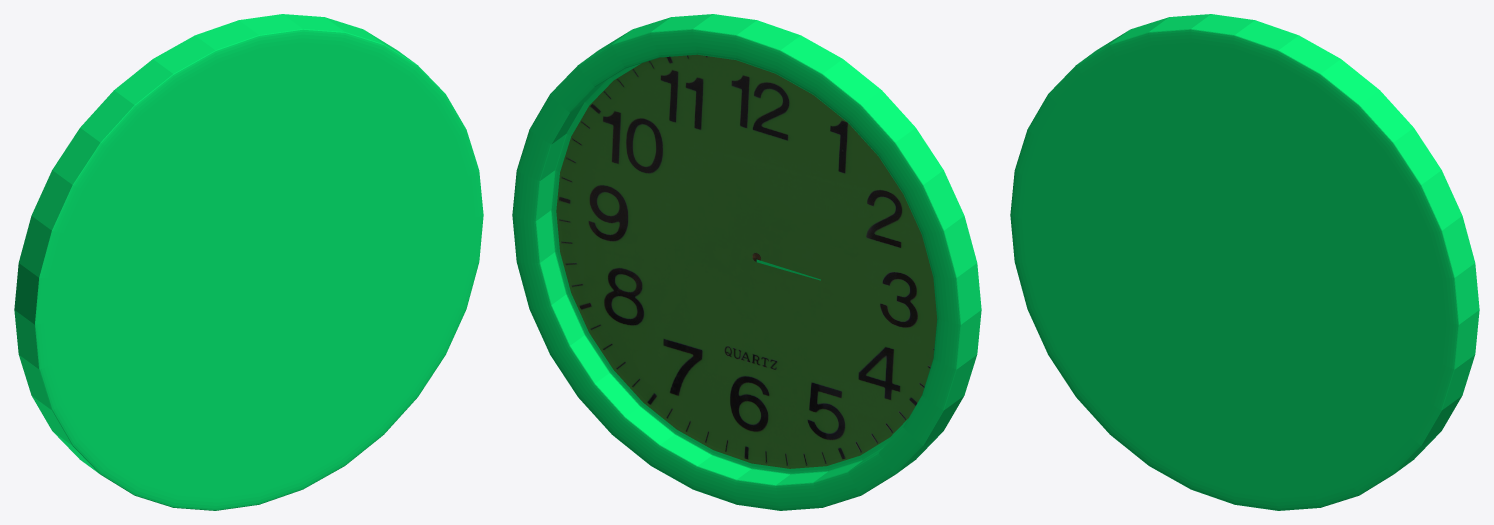
The model's file is Clock 1.fbx.
The picture shows the model from 3 angles, left to right: view 1: azimuth 30°, elevation 25°; view 2: azimuth 150°, elevation 25°; view 3: azimuth 330°, elevation 25°; orthographic projection.
Visible parts, largest first — view 1: Cylinder; view 2: Cylinder; view 3: Cylinder.
Boxes of the visible parts, <box> form: Cylinder: <box>14,14,483,510</box>; Cylinder: <box>512,14,981,510</box>; Cylinder: <box>1010,14,1479,510</box>.
Bounding box in the file's own units: 200 × 200 × 16.69.
